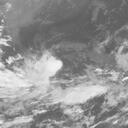cyclone: (15, 50, 74, 101)
